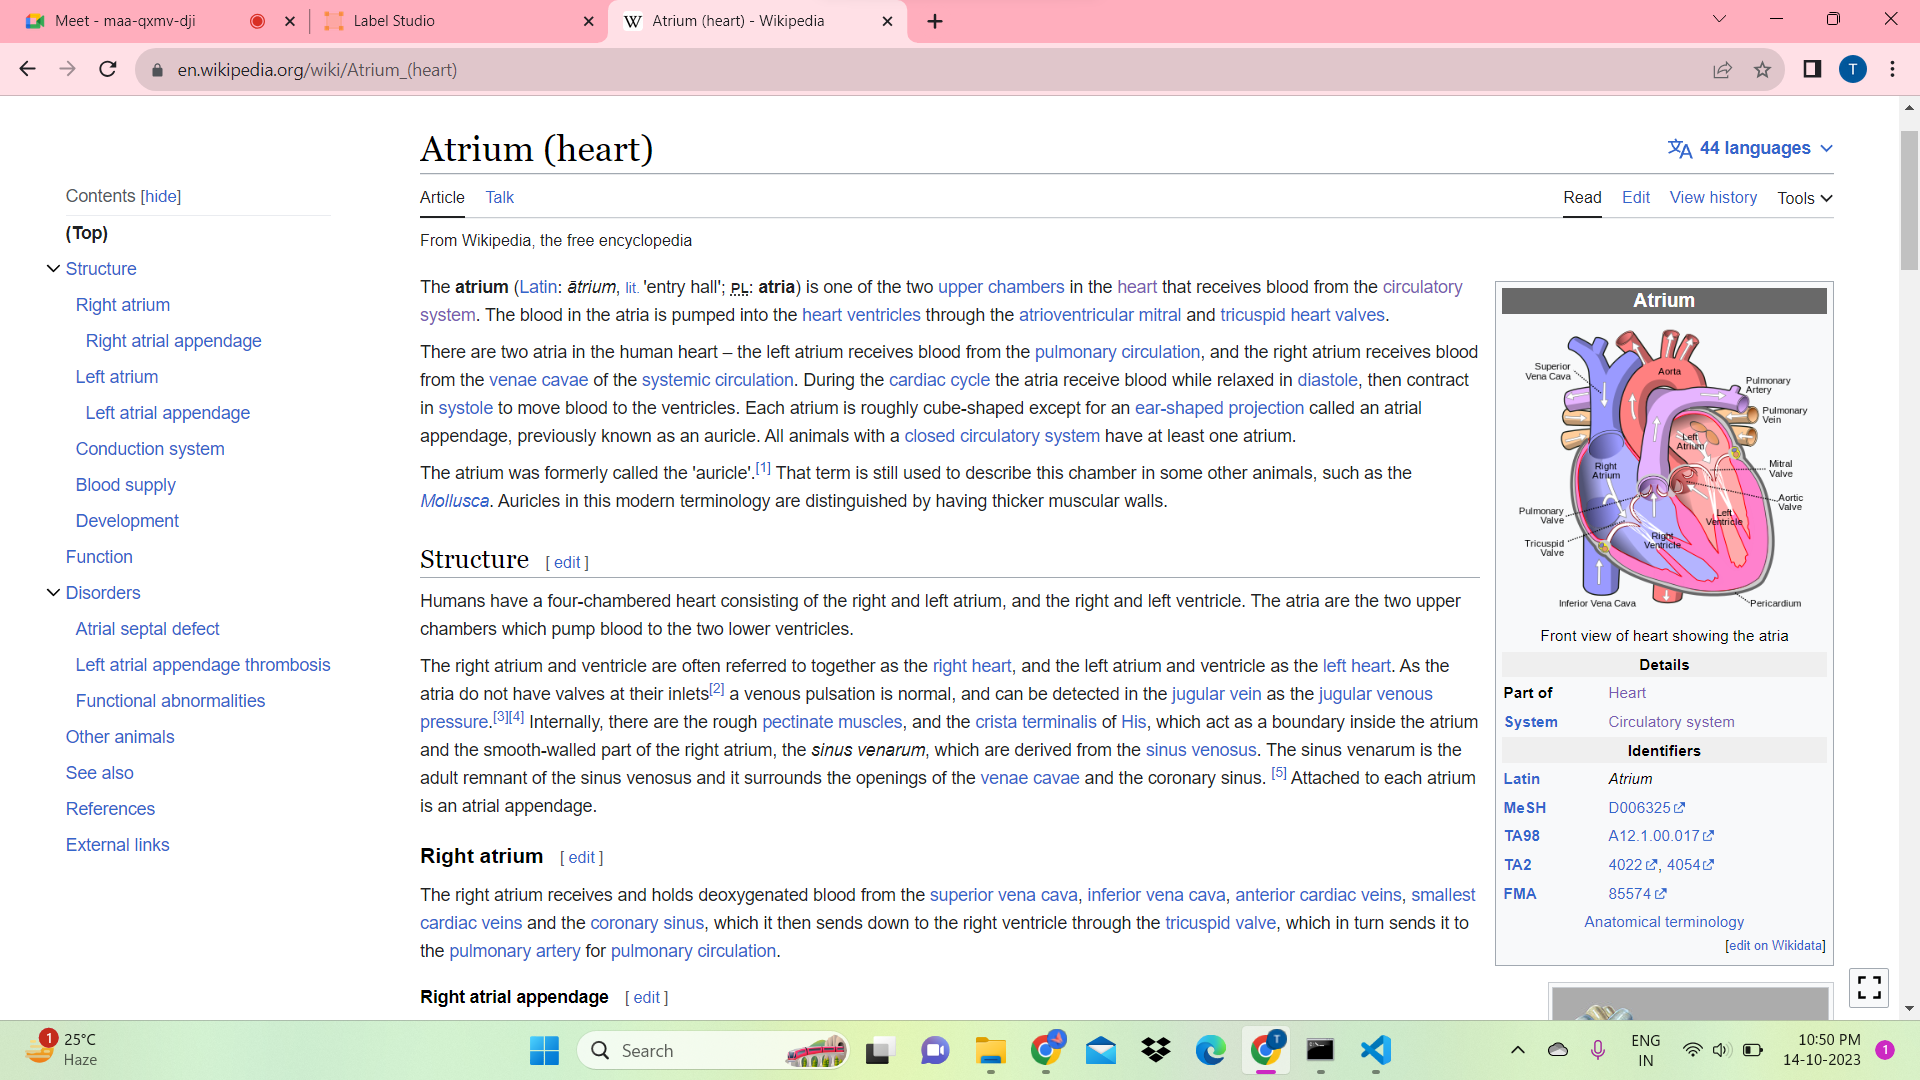Image: (1508, 272, 1851, 643)
Paragraph: (414, 652, 1495, 824), (412, 341, 1484, 449), (414, 876, 1495, 962), (408, 453, 1430, 535), (408, 263, 1482, 332), (419, 580, 1504, 639), (403, 116, 686, 177), (65, 636, 334, 684), (388, 986, 619, 1012), (58, 285, 203, 324), (414, 839, 561, 874), (412, 539, 550, 574), (58, 177, 196, 211), (65, 429, 239, 455), (65, 466, 181, 500), (52, 833, 188, 861), (65, 533, 153, 572)
